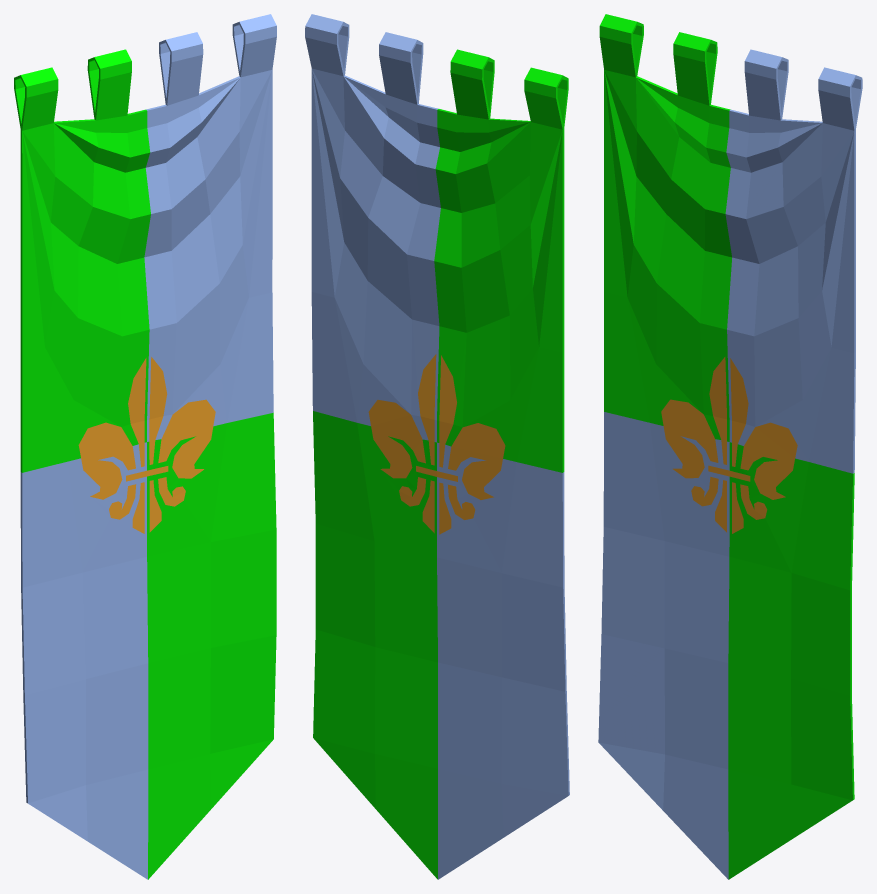
File: SM_Flag_Banner_Medium_C_Fantasy.fbx
3 views of the same model, side by side, from view 1: azimuth 30°, elevation 25°; view 2: azimuth 150°, elevation 25°; view 3: azimuth 330°, elevation 25° (orthographic).
Visible parts, largest first — view 1: flag-banner-medium-c-fantasy; view 2: flag-banner-medium-c-fantasy; view 3: flag-banner-medium-c-fantasy.
Part boxes in pixels (x1,y1,x2,y2): flag-banner-medium-c-fantasy: (14,14,276,879); flag-banner-medium-c-fantasy: (305,14,569,879); flag-banner-medium-c-fantasy: (598,14,862,879).
Bounding box in the file's own units: 0.9575 × 3.04 × 0.0921.
